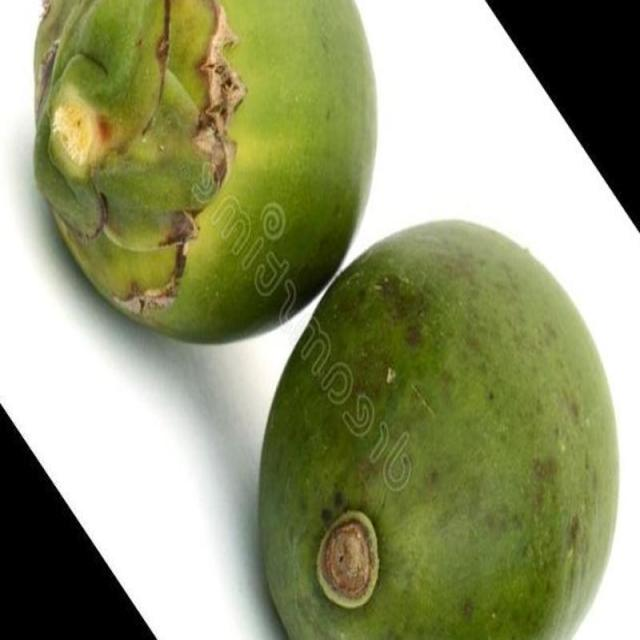good: (256, 220, 622, 639), (30, 0, 380, 348)
